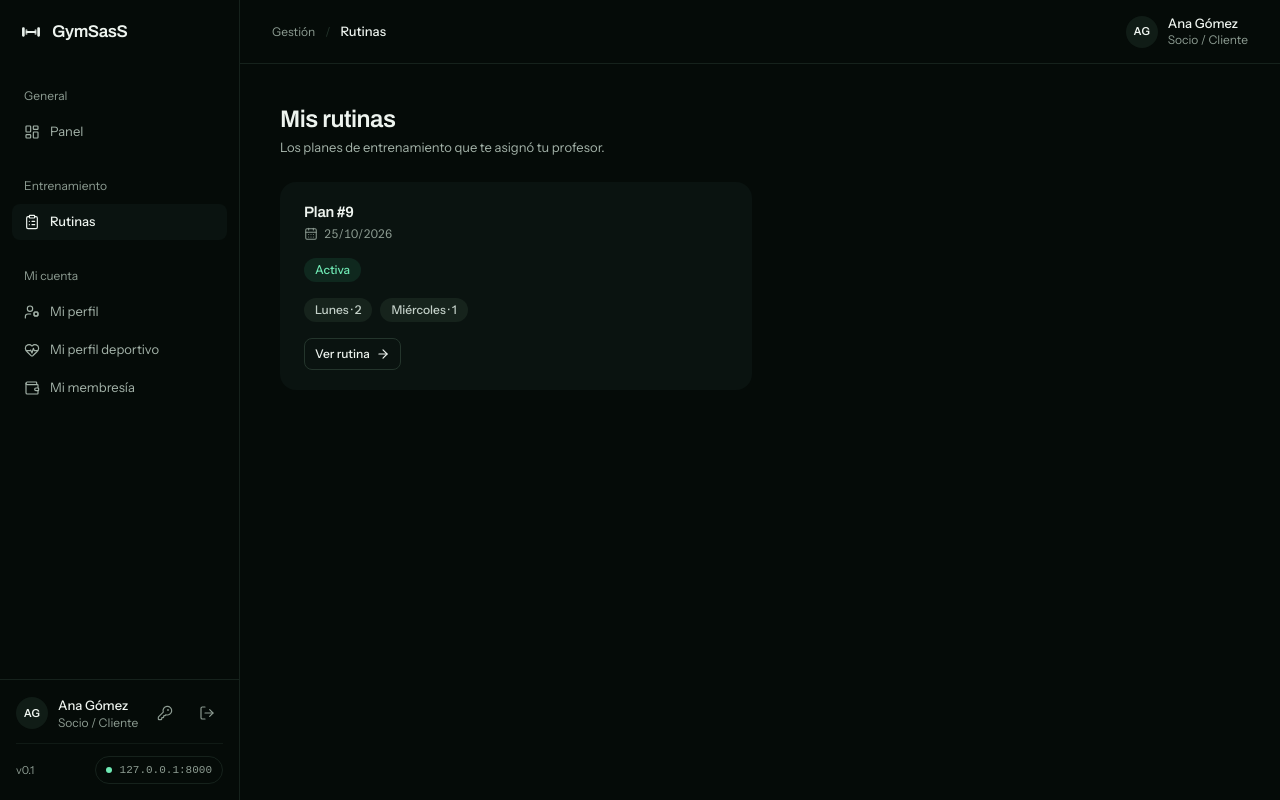
Test case: flujo de rutinas › el cliente ve sus rutinas y el detalle agrupado en solo lectura
Check: the heading "Mis rutinas" is shown, box [280,106,395,132]
Check: the text "Plan #9" is shown, box [304,204,354,220]
Click the link "Ver rutina": {"x": 352, "y": 354} [304,338,401,370]
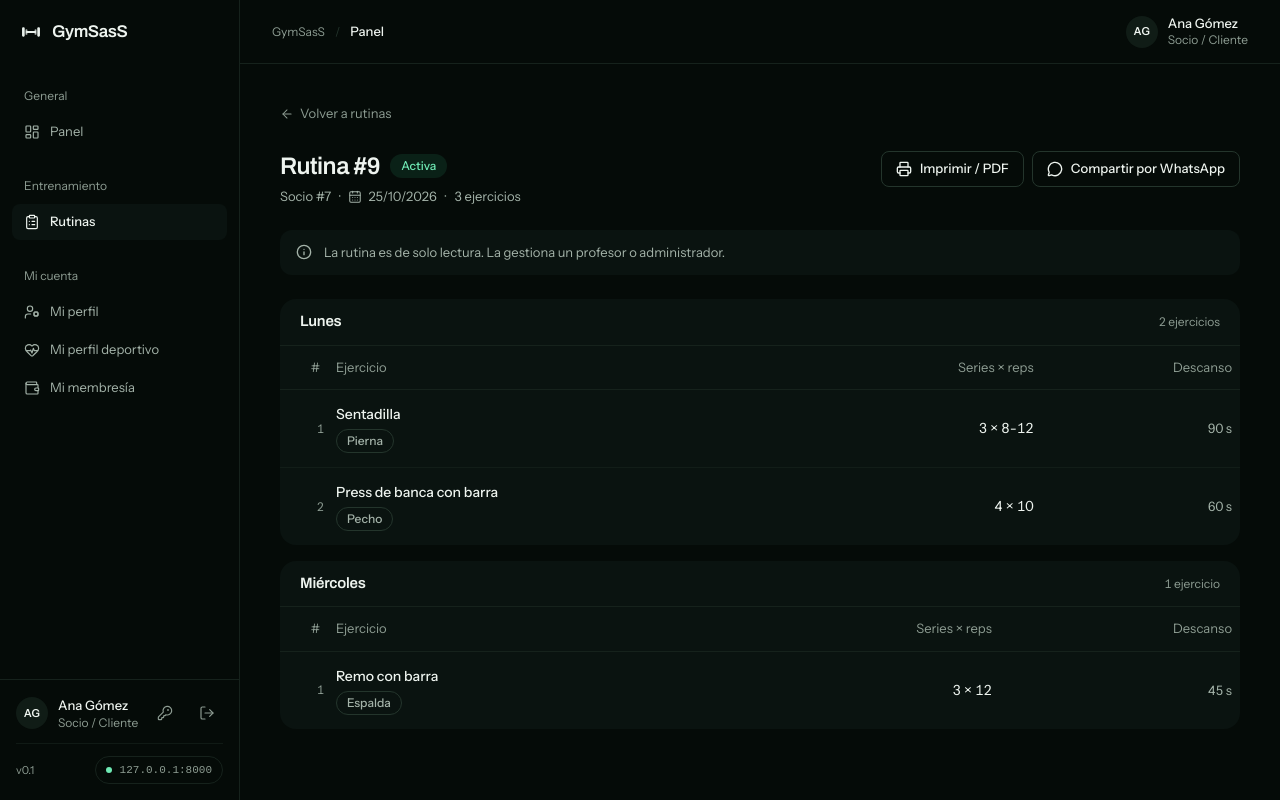
Check: the heading "Rutina #9" is shown, box [280,151,380,181]
Check: the text "Press de banca con barra" is shown 2 times
Check: the text "Remo con barra" is shown 2 times
